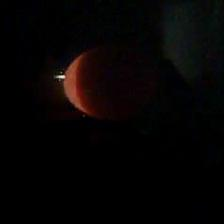fertile: (60, 45, 162, 123)
